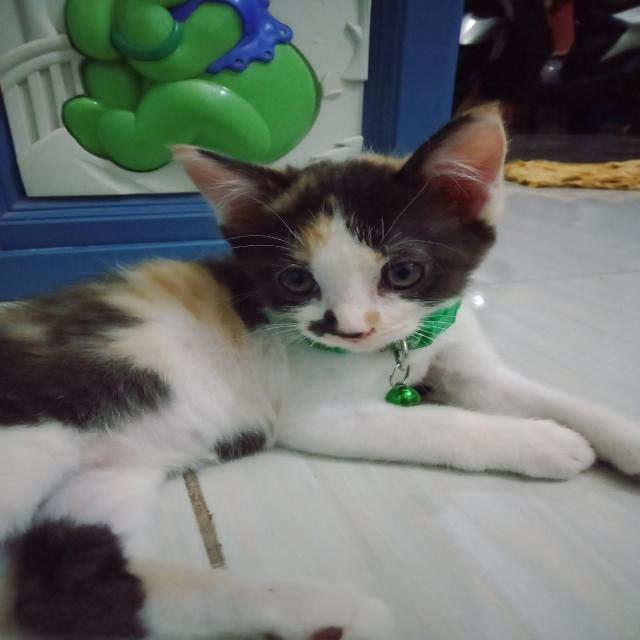da khoe manh: (12, 313, 225, 454)
